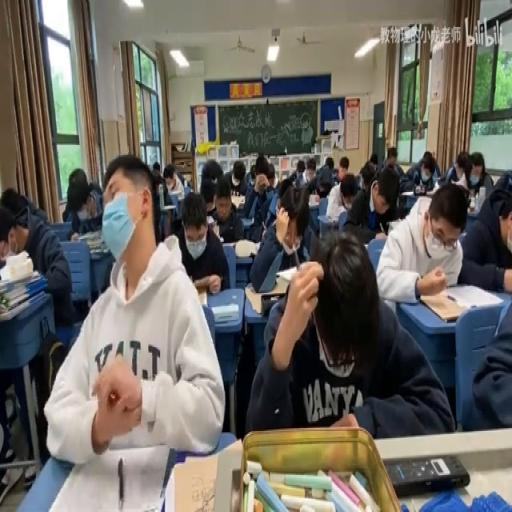calculator: (45, 441, 172, 510), (167, 453, 222, 512), (444, 283, 502, 309), (76, 228, 109, 252), (210, 300, 238, 322), (234, 238, 258, 258), (276, 263, 298, 282), (192, 274, 213, 292), (170, 194, 183, 218), (401, 189, 432, 199), (466, 202, 483, 219), (195, 288, 207, 306), (386, 219, 400, 233), (240, 214, 254, 228), (222, 240, 237, 249), (433, 176, 442, 190), (309, 194, 319, 206), (302, 245, 310, 260), (374, 230, 388, 238), (206, 215, 216, 226), (182, 182, 190, 195), (162, 204, 175, 210)
paper: (250, 229, 452, 439), (1, 189, 74, 492), (250, 181, 314, 287), (459, 172, 512, 292), (174, 190, 228, 294), (355, 165, 402, 237), (62, 168, 104, 234), (442, 151, 490, 196), (2, 186, 46, 235), (402, 148, 440, 192), (242, 168, 264, 218), (225, 159, 248, 202), (314, 156, 337, 194), (378, 146, 404, 178), (162, 164, 184, 199), (198, 184, 218, 218), (200, 158, 222, 188), (290, 158, 306, 188), (340, 179, 355, 205), (277, 176, 293, 199), (266, 189, 278, 219), (254, 155, 268, 179), (266, 162, 277, 189), (89, 179, 102, 199), (338, 158, 348, 176), (368, 152, 378, 168), (306, 176, 316, 192), (152, 161, 161, 175), (306, 161, 315, 175), (250, 162, 256, 179), (422, 154, 430, 165), (332, 168, 338, 179)
person: (384, 452, 470, 495), (262, 292, 286, 314)
